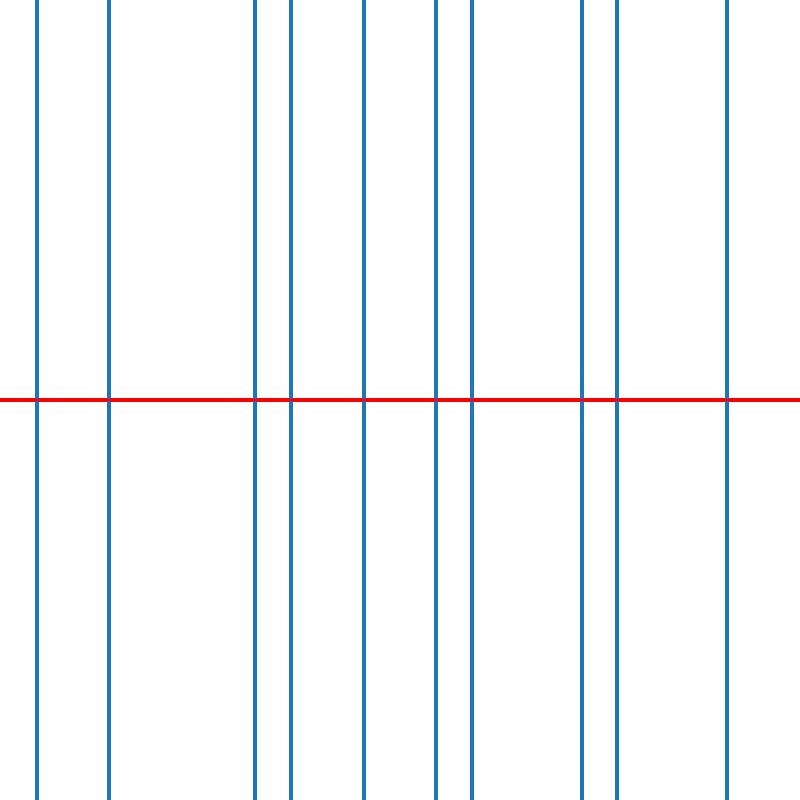root: (432, 396, 440, 404), (32, 396, 40, 404), (250, 396, 258, 404), (614, 396, 621, 404), (287, 396, 294, 404), (469, 396, 476, 404), (105, 396, 112, 404), (723, 396, 730, 404), (360, 396, 367, 404), (578, 396, 585, 404)
